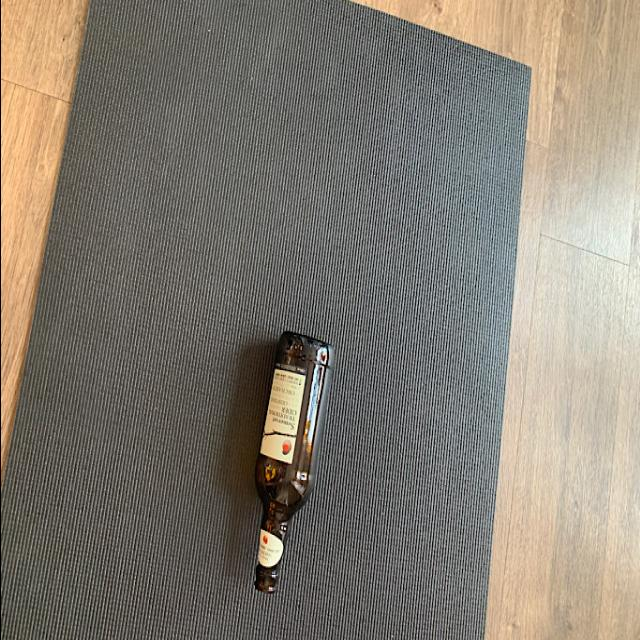litter: (240, 326, 334, 595)
